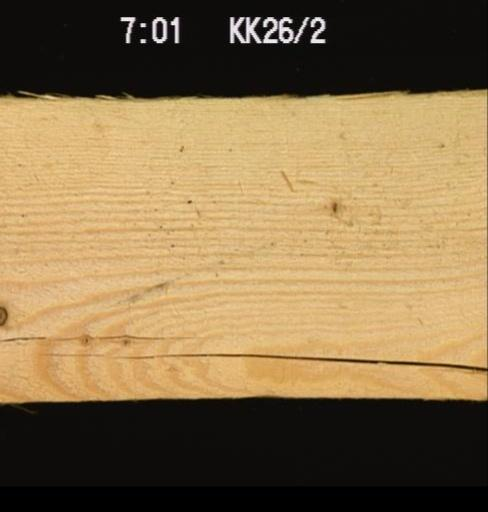dry_knot: (0, 303, 8, 327)
small_knot: (322, 195, 345, 217)
split: (33, 349, 486, 375), (0, 330, 198, 343)
